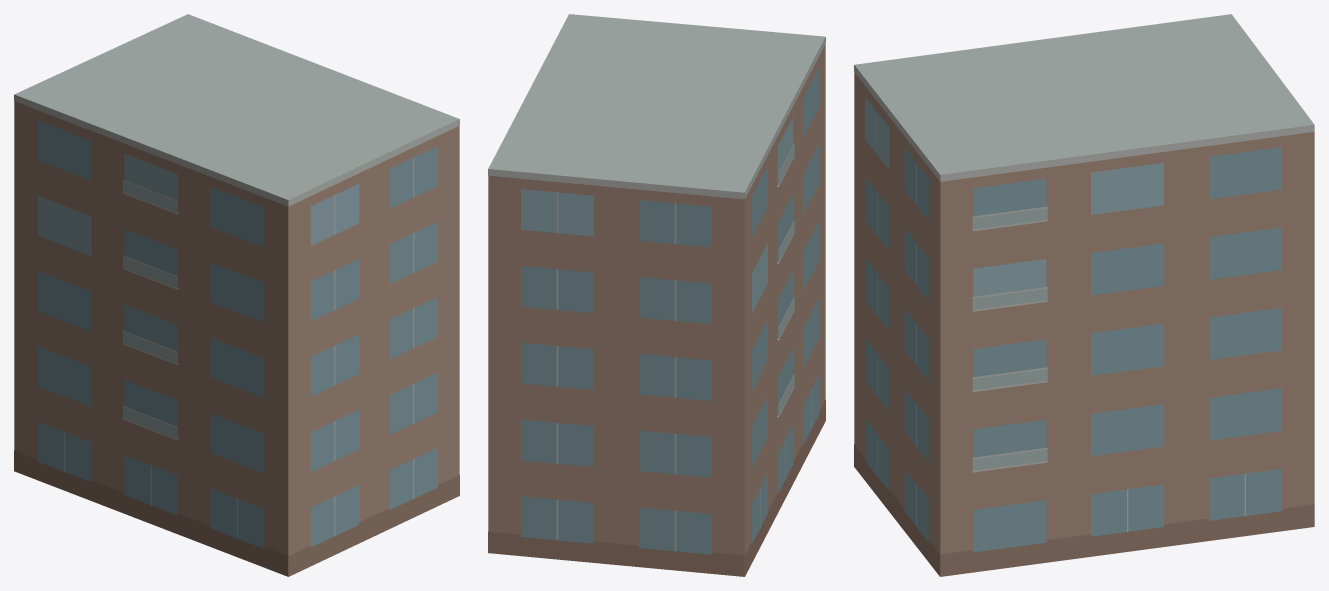
The model's file is survey-upis-32703990.glb.
3 views of the same model, side by side, from view 1: azimuth 30°, elevation 25°; view 2: azimuth 150°, elevation 25°; view 3: azimuth 270°, elevation 25° (orthographic). The views are drawn at different scales.
Visible parts, largest first — view 1: survey-upis-32703990.tmp; view 2: survey-upis-32703990.tmp; view 3: survey-upis-32703990.tmp.
Boxes of the visible parts, <box> form: survey-upis-32703990.tmp: <box>14,14,459,576</box>; survey-upis-32703990.tmp: <box>488,14,825,576</box>; survey-upis-32703990.tmp: <box>854,14,1314,576</box>.
Bounding box in the file's own units: 12.06 × 14.04 × 14.59.
